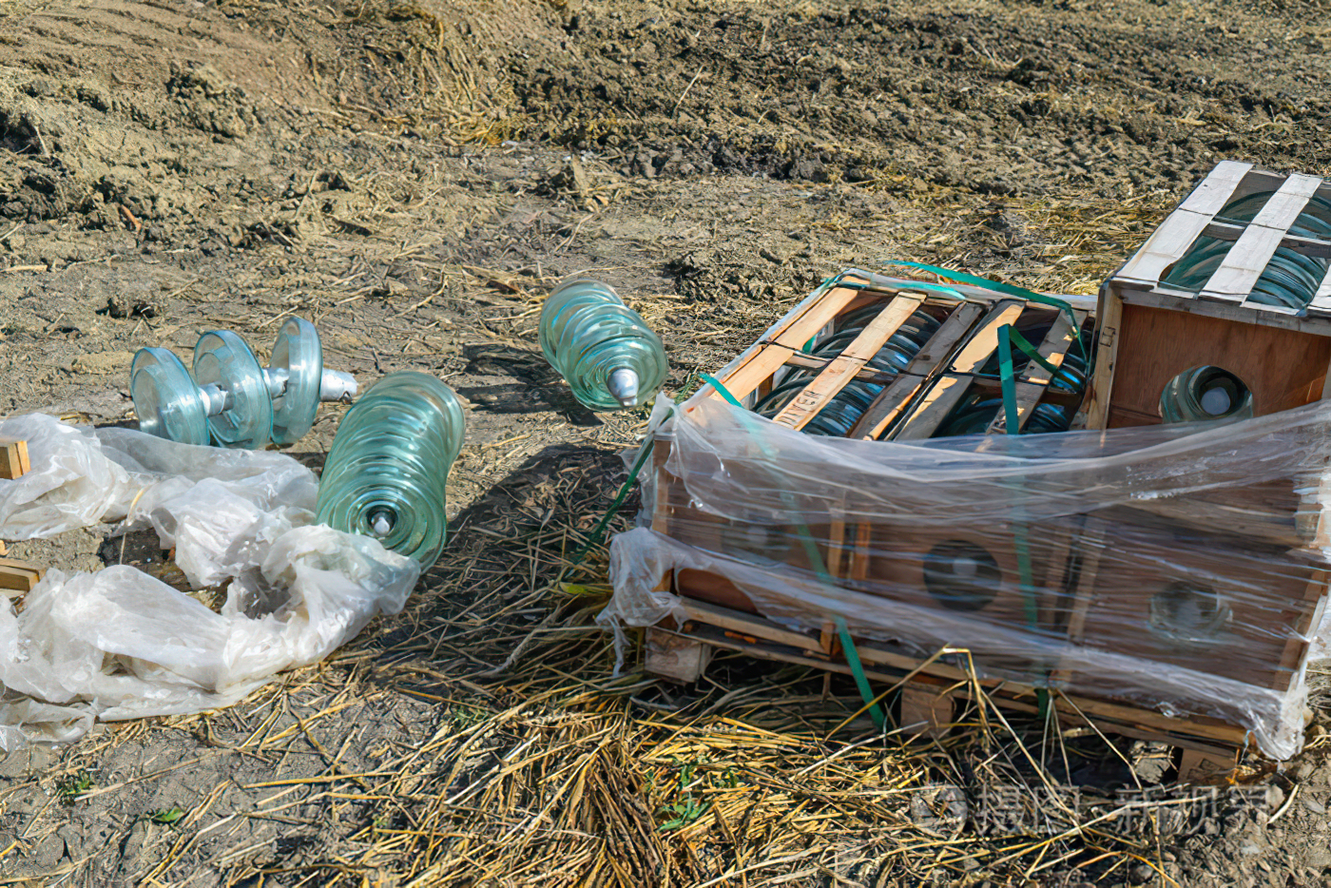insulator: (317, 371, 462, 560), (127, 319, 326, 454), (535, 278, 677, 412)
